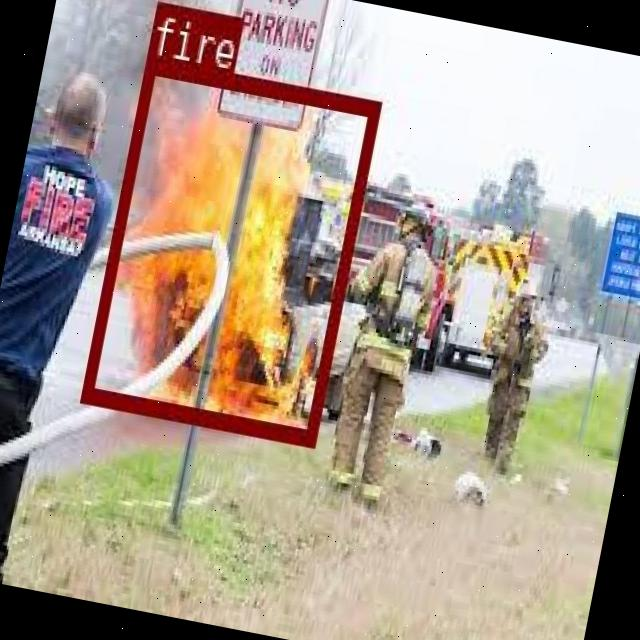fire: (81, 55, 380, 442)
